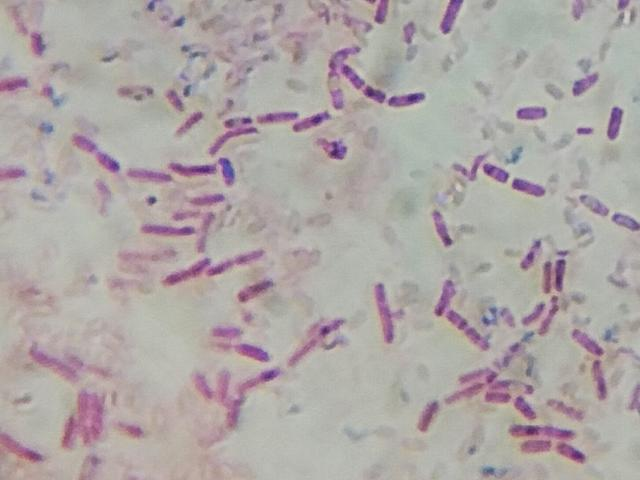E. coli: (286, 315, 355, 366), (372, 279, 403, 346), (73, 135, 120, 176), (33, 344, 83, 382), (347, 62, 387, 107), (213, 334, 271, 364), (449, 309, 487, 354), (519, 438, 585, 463), (428, 202, 457, 253), (506, 420, 579, 440), (238, 275, 281, 308), (124, 164, 175, 191), (164, 256, 208, 285), (0, 431, 37, 463), (602, 97, 626, 146), (519, 231, 546, 273), (514, 171, 551, 201), (388, 87, 434, 111), (573, 325, 608, 356), (415, 391, 440, 434), (474, 156, 509, 186), (210, 128, 257, 150), (432, 272, 456, 315), (168, 155, 217, 176), (513, 98, 551, 125), (325, 52, 343, 108), (210, 256, 267, 273), (235, 368, 288, 386), (568, 69, 604, 95), (590, 356, 612, 398), (74, 390, 92, 441), (545, 395, 583, 419), (146, 219, 193, 238), (611, 206, 640, 236), (189, 368, 213, 404), (553, 252, 573, 295), (436, 0, 462, 32), (447, 384, 491, 402), (0, 68, 29, 95), (582, 187, 608, 217), (365, 0, 394, 26), (206, 315, 240, 337), (292, 115, 331, 133), (176, 114, 205, 138), (197, 212, 213, 255), (492, 377, 532, 394), (190, 191, 224, 211), (92, 397, 106, 445), (228, 392, 245, 431), (0, 161, 24, 188), (539, 309, 559, 340), (260, 106, 296, 123), (166, 87, 190, 112), (539, 261, 553, 299), (462, 367, 495, 383), (219, 155, 236, 186), (522, 301, 543, 324), (518, 395, 535, 423), (64, 412, 76, 451), (215, 368, 230, 397), (486, 390, 511, 407), (227, 116, 253, 130)
